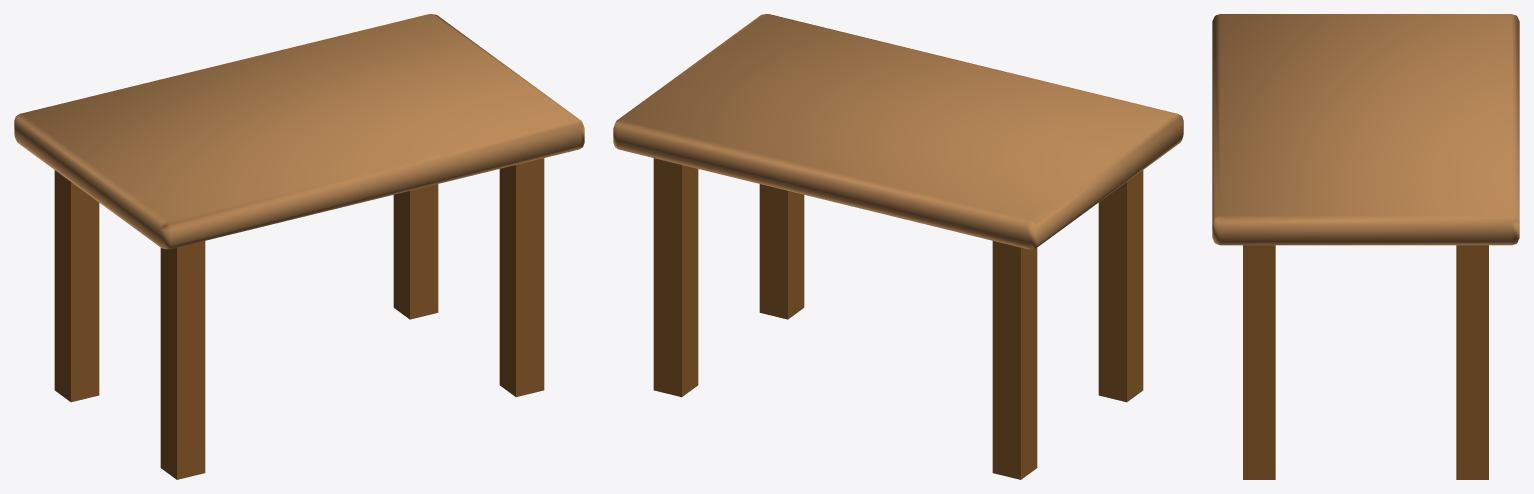
Rendered from v_furn_table.glb.
3 renders of one model, left to right at view 1: azimuth 30°, elevation 25°; view 2: azimuth 150°, elevation 25°; view 3: azimuth 270°, elevation 25°, orthographic.
Visible parts, largest first — view 1: FurnTable; view 2: FurnTable; view 3: FurnTable.
Boxes of the visible parts, x1=… form: FurnTable: x1=14, y1=14, x2=584, y2=479; FurnTable: x1=613, y1=14, x2=1183, y2=479; FurnTable: x1=1212, y1=14, x2=1519, y2=479.
Bounding box in the file's own units: 1.2 × 0.74 × 0.75.
